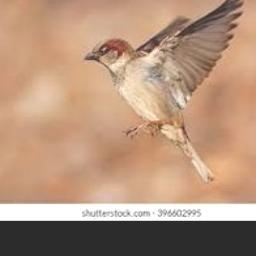Sparrow: (82, 0, 243, 182)
